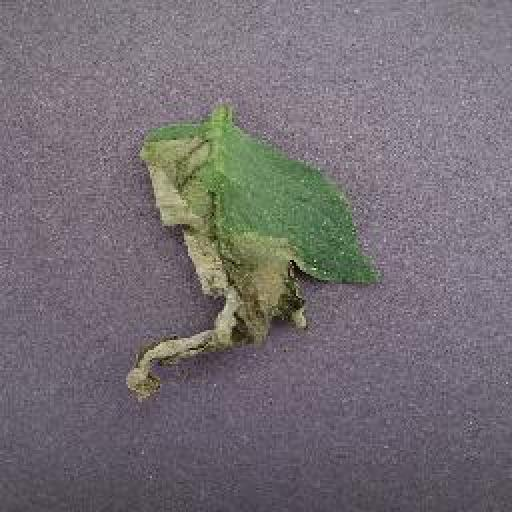disease_tomato: (124, 118, 379, 402)
